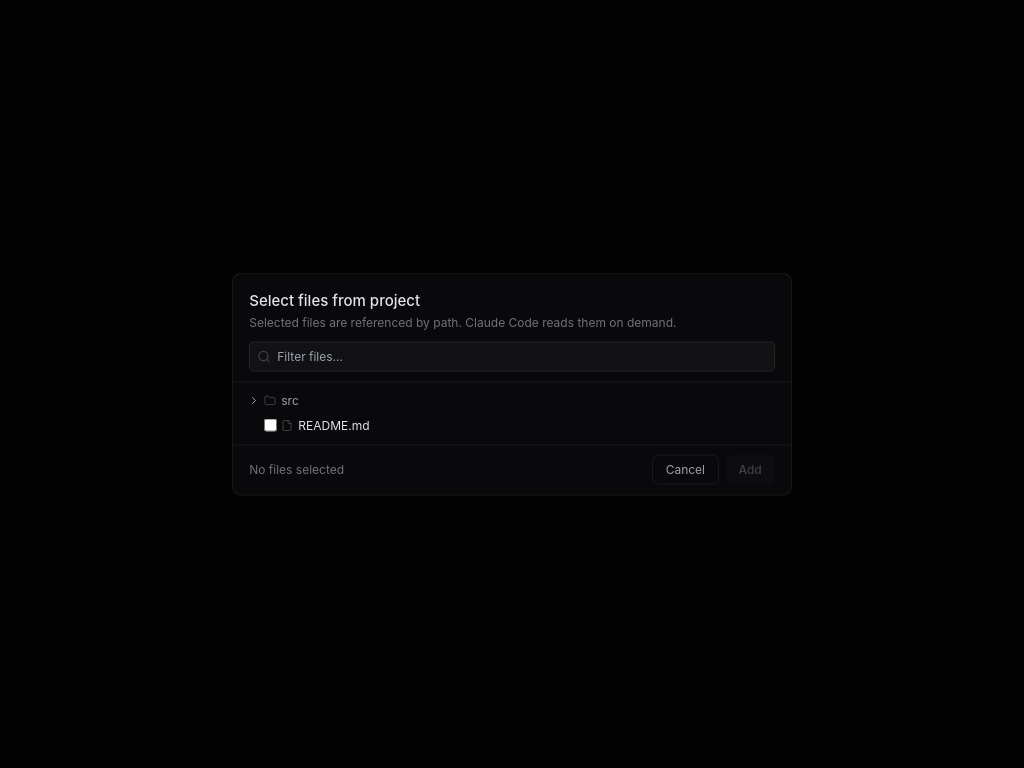
Scenario: ProjectFilePicker › expands a folder to reveal its children
The width and height of the screenshot is (1024, 768).
Click the button "src".
click(254, 401)  # box [240,389,784,413]
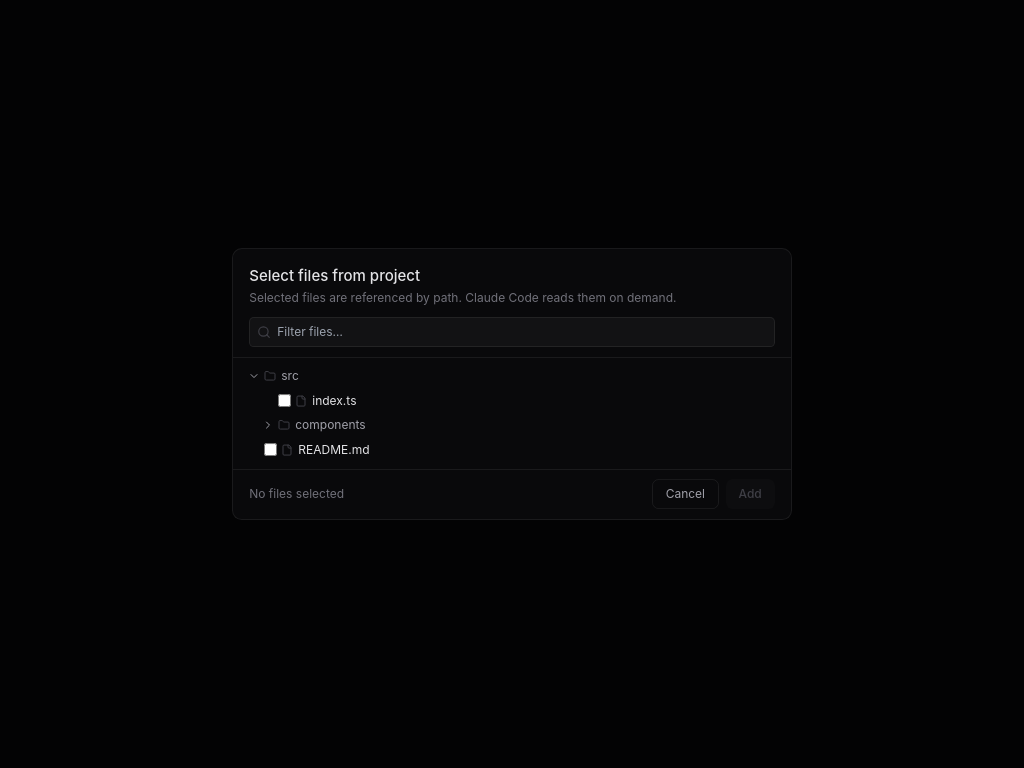
Expected: the text "index.ts" is shown, [312,392,356,410]
Expected: the text "components" is shown, [295,416,366,434]
